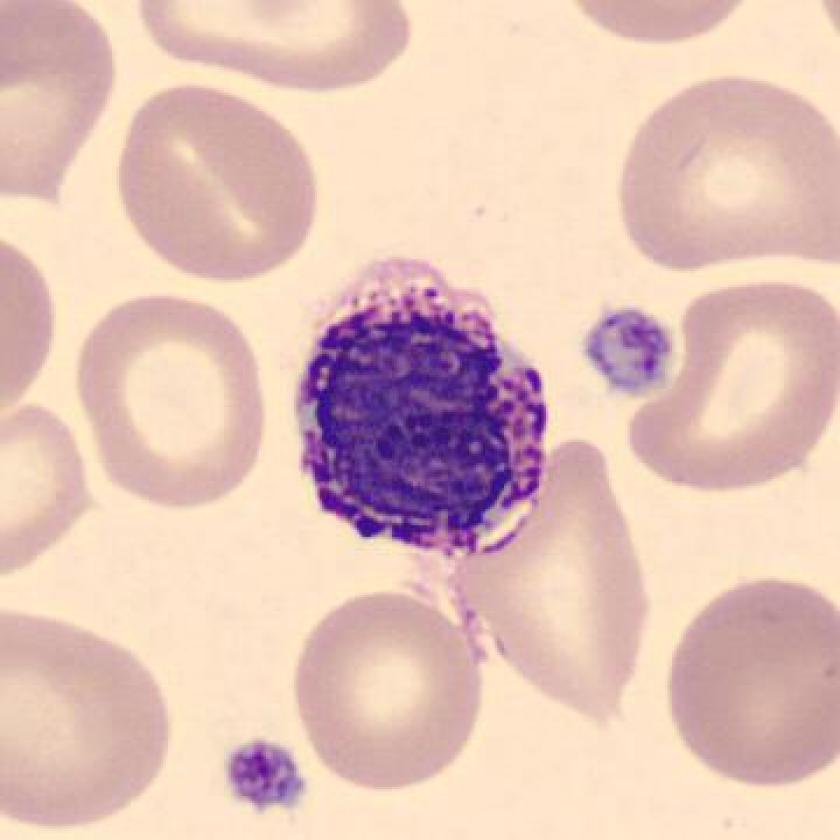basophil: (293, 279, 545, 549)
